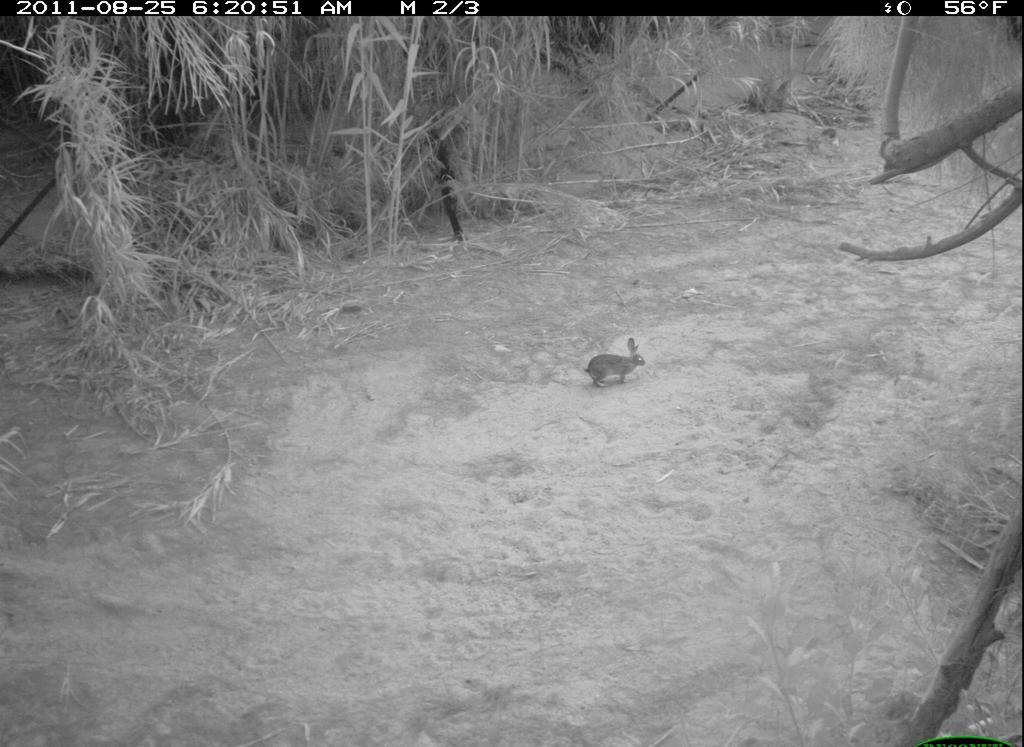rabbit: (573, 338, 669, 400)
